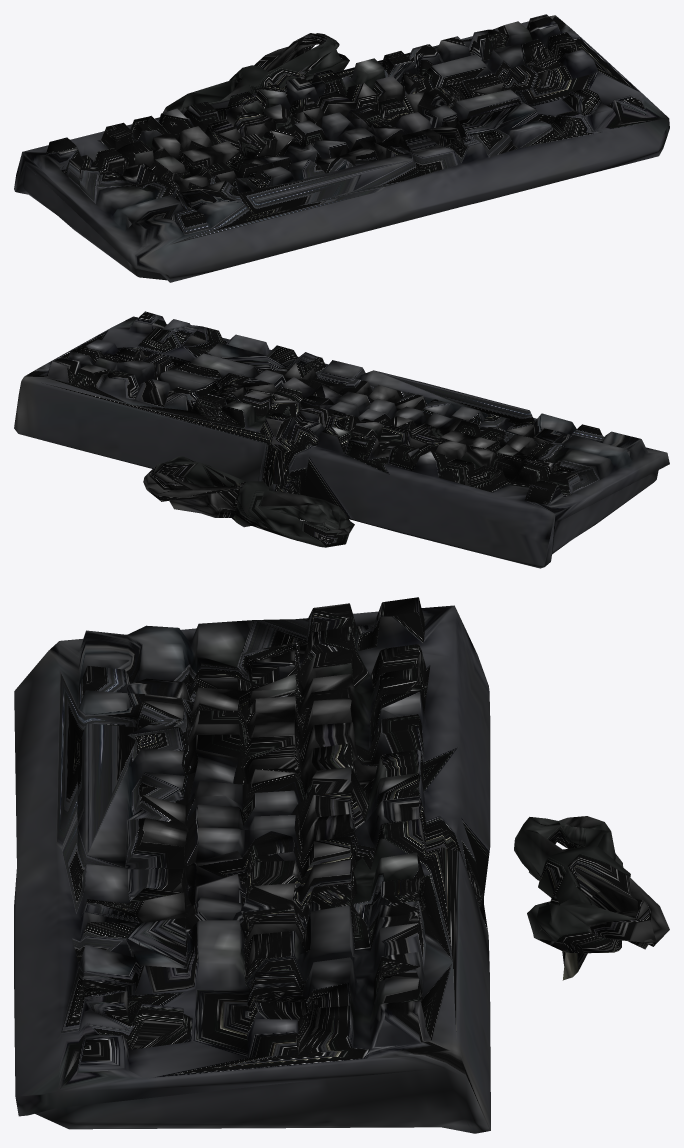
Rendered from gso_razer_blackwidow_tournament_edition_keyboard.glb.
The picture shows the model from 3 angles, top to bottom: view 1: azimuth 30°, elevation 25°; view 2: azimuth 150°, elevation 25°; view 3: azimuth 270°, elevation 25°; orthographic projection. The views are drawn at different scales.
Visible parts, largest first — view 1: z-up-to-y-up; view 2: z-up-to-y-up; view 3: z-up-to-y-up.
Boxes of the visible parts, box(x1,y1,x2,y2) form: z-up-to-y-up: box(14, 14, 669, 282); z-up-to-y-up: box(14, 311, 669, 568); z-up-to-y-up: box(14, 597, 669, 1133).
Size of the model in its own units: 0.3659 by 0.0463 by 0.2196.
Materials: 1 (1 with a texture image).
